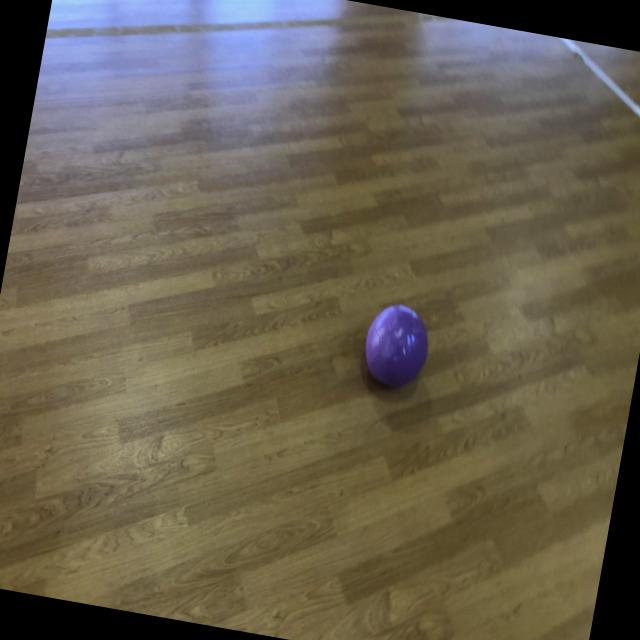purple_ball: (358, 300, 432, 391)
